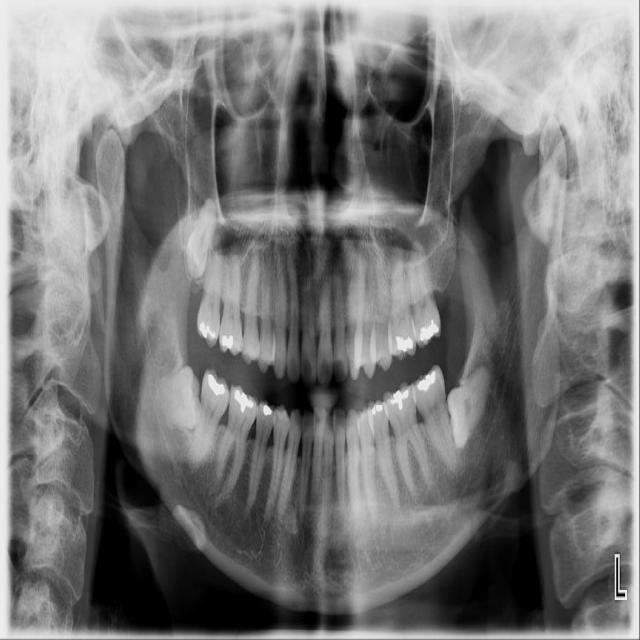Filling: (410, 373, 441, 393), (233, 388, 255, 414), (386, 387, 411, 409), (205, 373, 227, 397), (418, 320, 439, 342), (394, 333, 415, 354), (198, 319, 215, 342), (218, 333, 235, 351), (368, 401, 386, 418), (260, 403, 275, 418)
impacted tooth: (445, 365, 491, 447), (150, 366, 199, 424), (183, 200, 216, 281)
